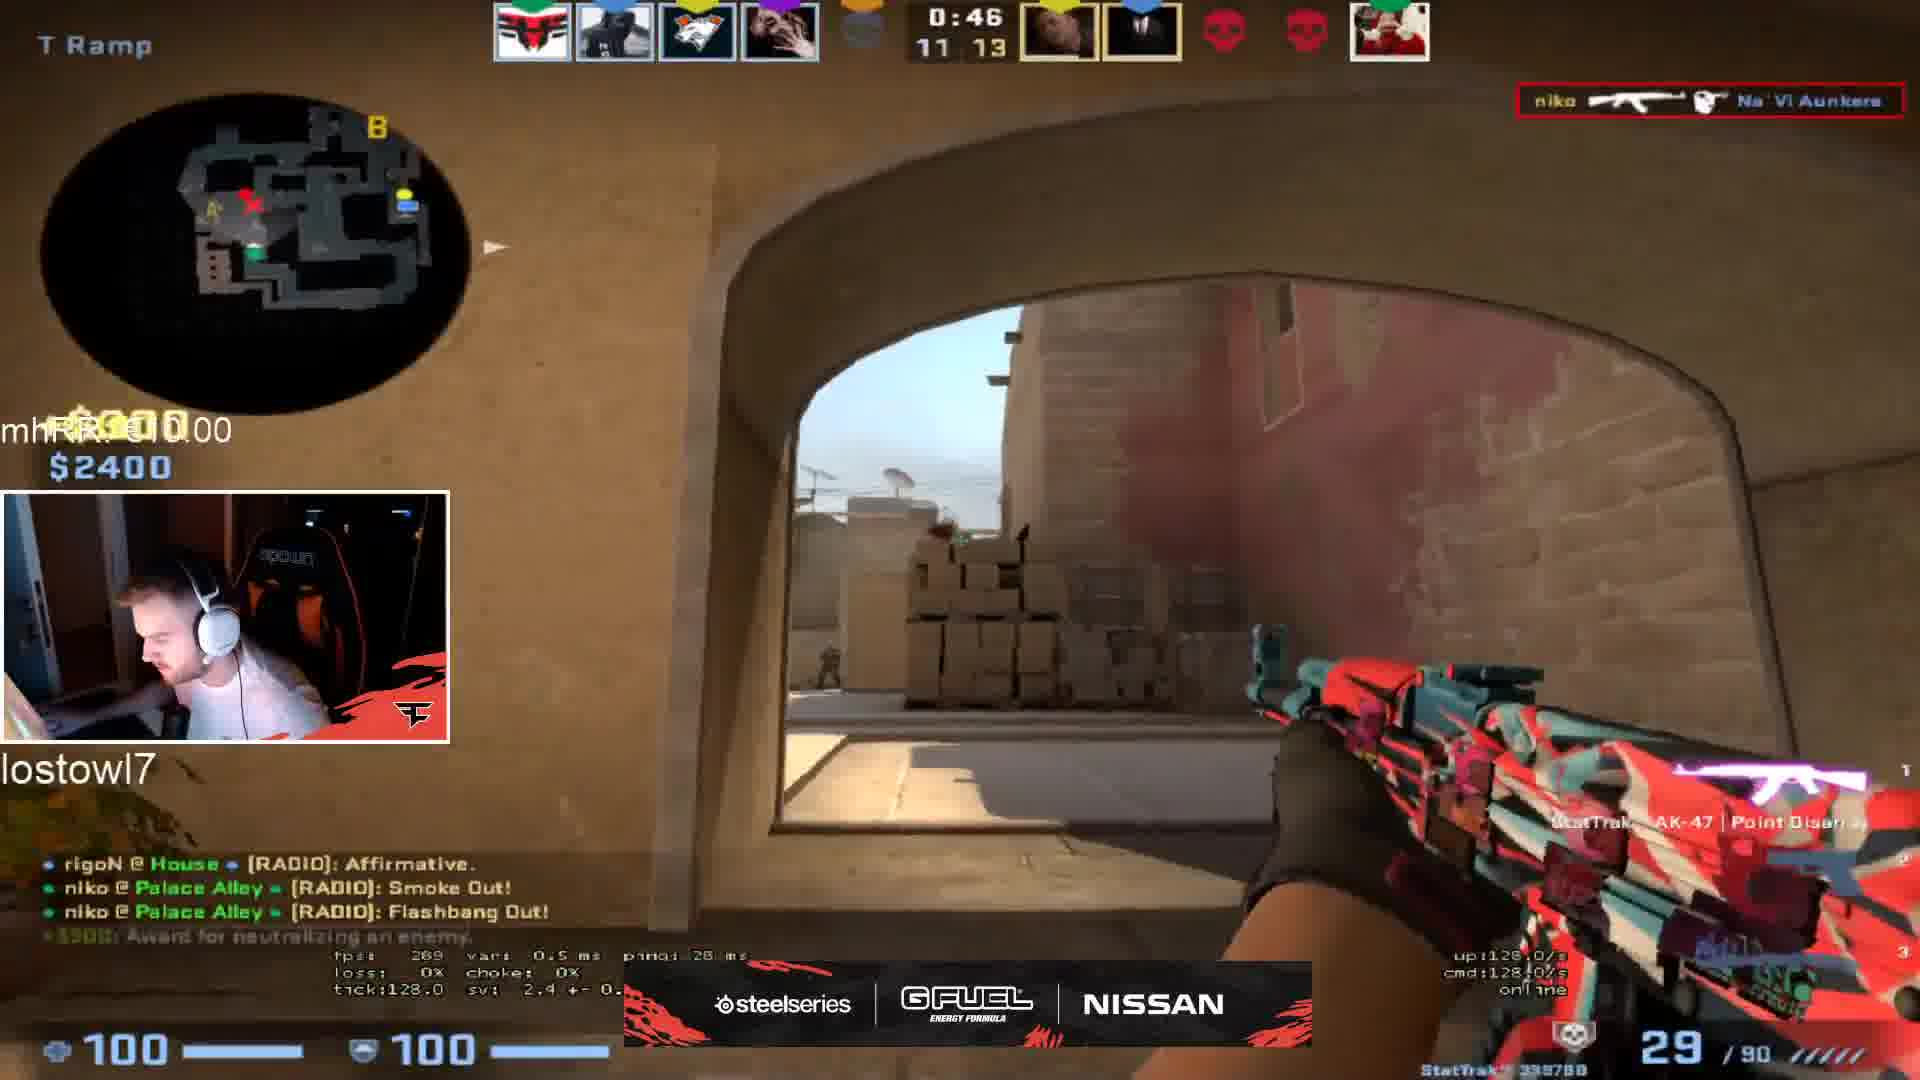enemy: (814, 636, 848, 694)
